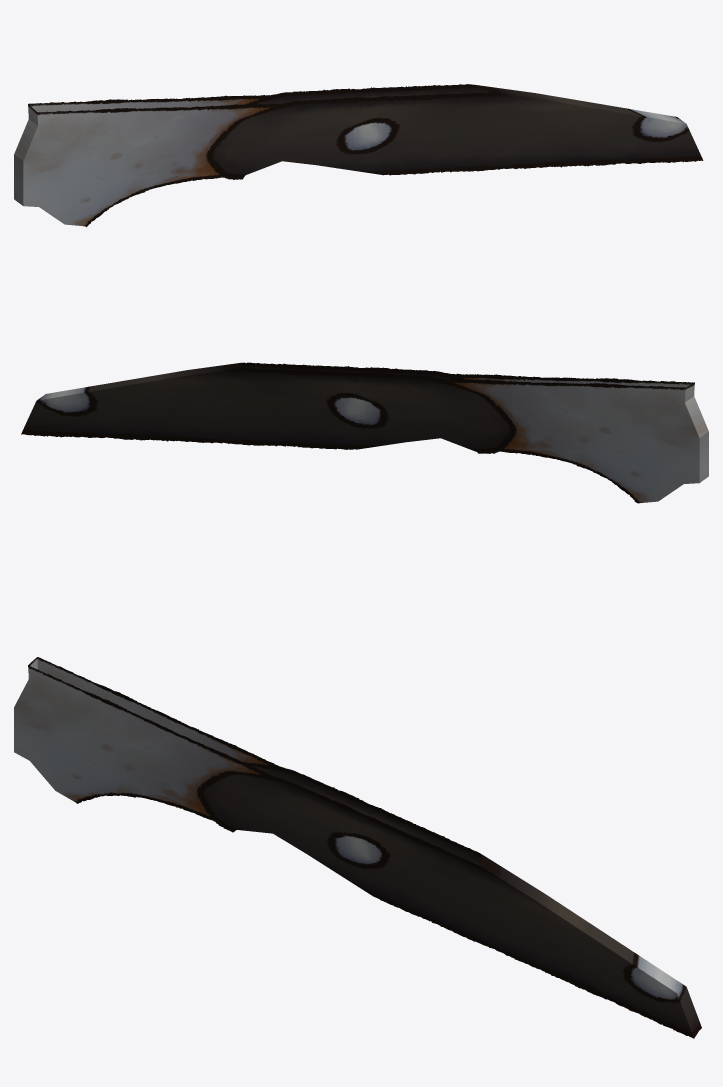
Rendered from puukko.fbx.
The picture shows the model from 3 angles, top to bottom: view 1: azimuth 30°, elevation 25°; view 2: azimuth 150°, elevation 25°; view 3: azimuth 330°, elevation 25°; orthographic projection.
Parts seen in each view (by area): view 1: Cube; view 2: Cube; view 3: Cube.
Boxes of the visible parts, x1=… form: Cube: x1=14, y1=84, x2=703, y2=226; Cube: x1=21, y1=362, x2=708, y2=503; Cube: x1=14, y1=657, x2=701, y2=1038.
Size of the model in its own units: 288 by 139 by 6.8.
